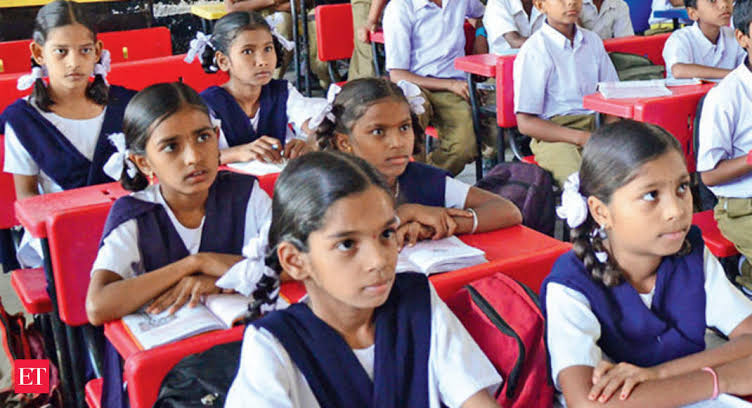student: (269, 156, 406, 311), (577, 123, 701, 248), (115, 90, 228, 188), (317, 80, 422, 173), (25, 9, 118, 90), (205, 18, 297, 93), (532, 1, 596, 19)
